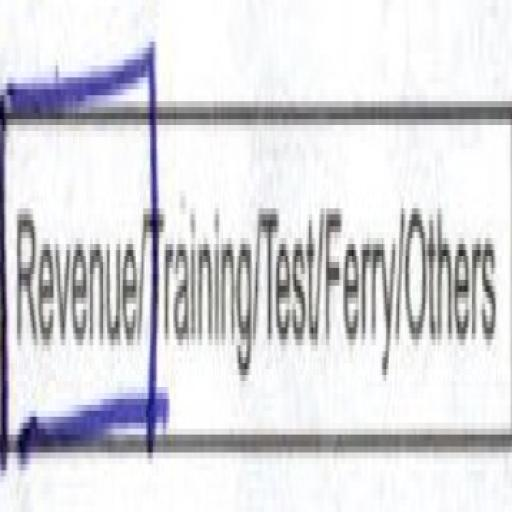check: (0, 2, 145, 512)
